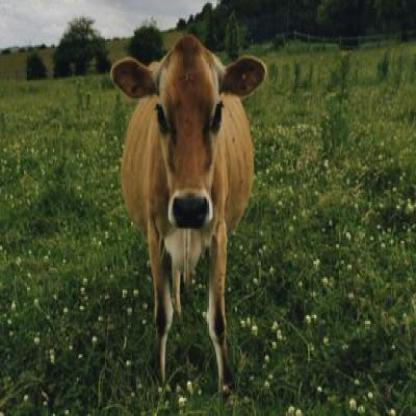mouth: (165, 191, 216, 235)
upper: (189, 206, 201, 218)
